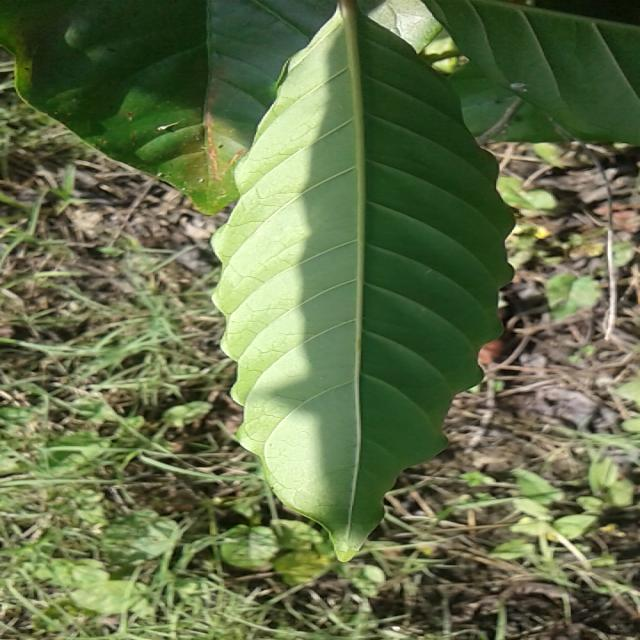Sanas: (210, 0, 516, 560)
